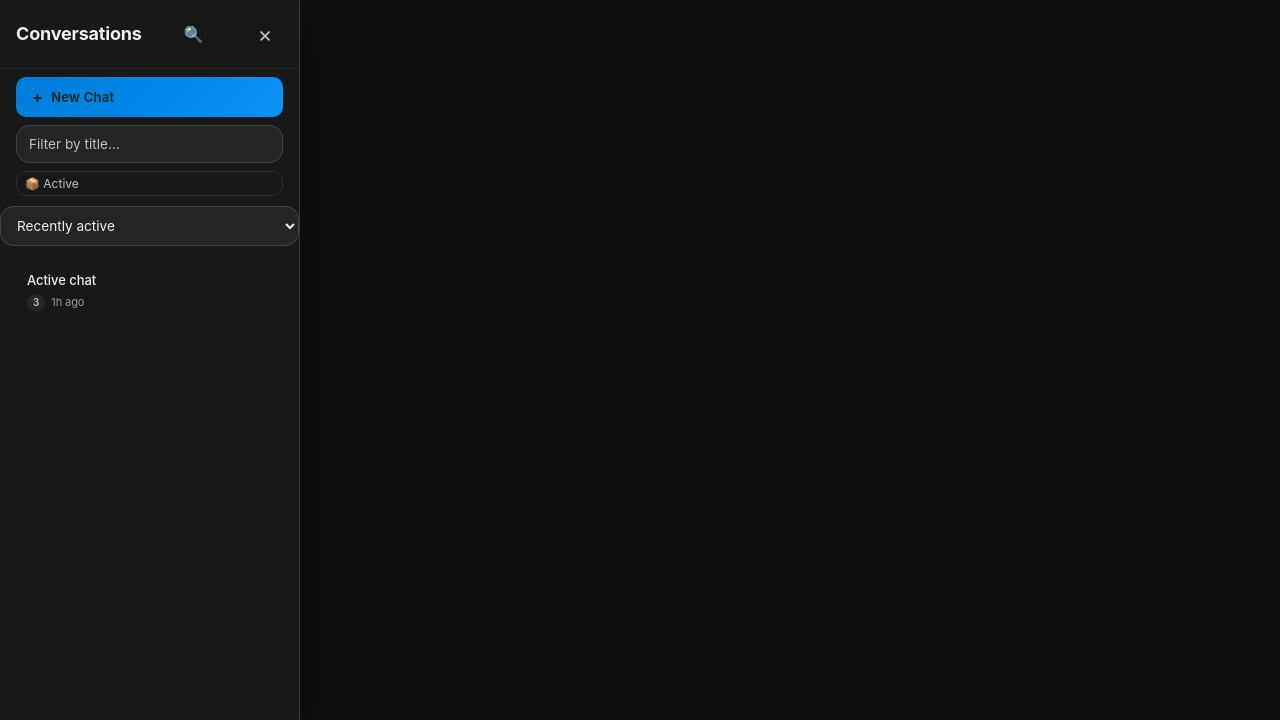
ConversationSidebar — archiving › archive toggle button text switches between Active and Archived
Click the button with class "archive-toggle-btn": (61, 184) left=16, top=171, right=283, bottom=196
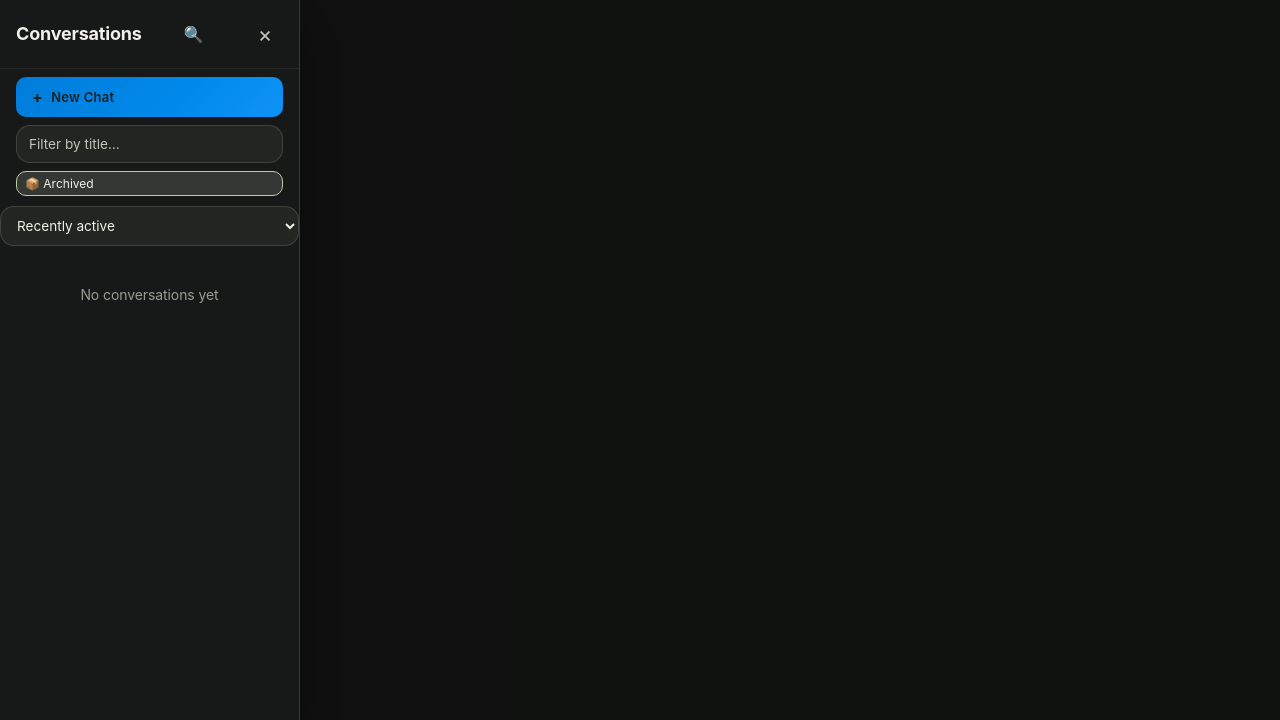
Expected: the button with class "archive-toggle-btn" shows "Archived", left=16, top=171, right=283, bottom=196
